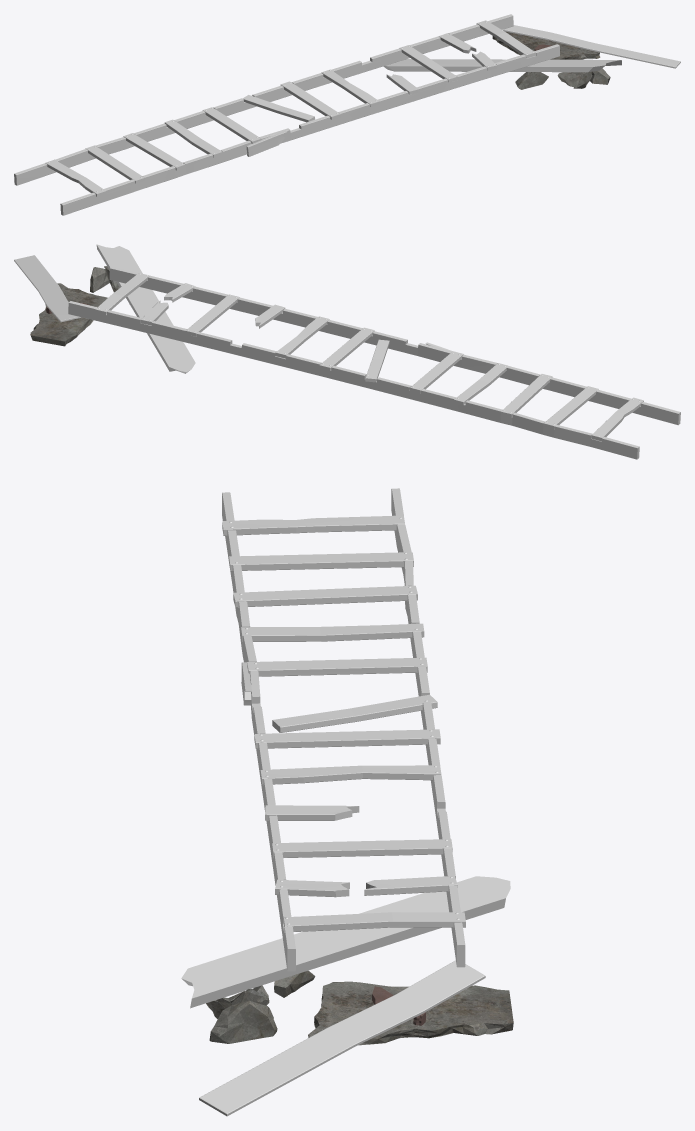
Rendered from LadderB.fbx.
3 renders of one model, top to bottom at view 1: azimuth 30°, elevation 25°; view 2: azimuth 150°, elevation 25°; view 3: azimuth 270°, elevation 25°, orthographic. The views are drawn at different scales.
Parts seen in each view (by area): view 1: LadderB; view 2: LadderB; view 3: LadderB.
Part boxes in pixels (box(x1,y1,x2,y2)): LadderB: box(14, 14, 680, 215); LadderB: box(14, 244, 680, 459); LadderB: box(181, 488, 513, 1116).
Bounding box in the file's own units: 4 × 0.2082 × 0.9233.
